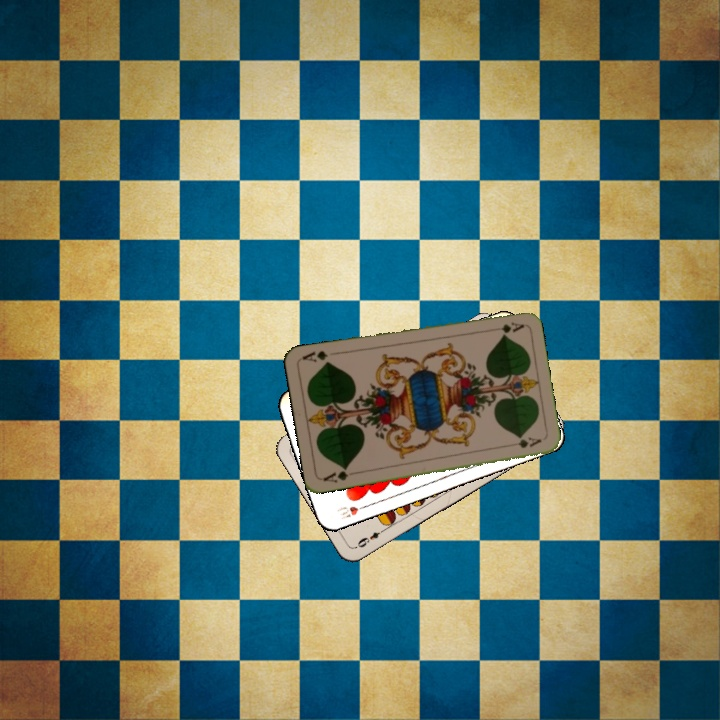E9: (352, 524, 389, 550)
GA: (319, 464, 359, 486), (485, 318, 526, 334)
H10: (333, 500, 372, 522)
